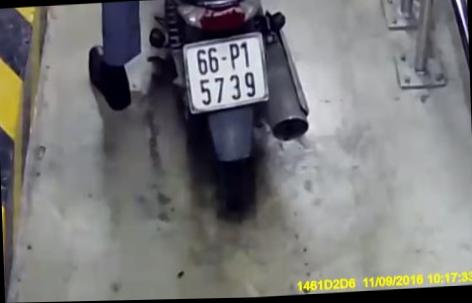LP: (180, 30, 273, 116)
